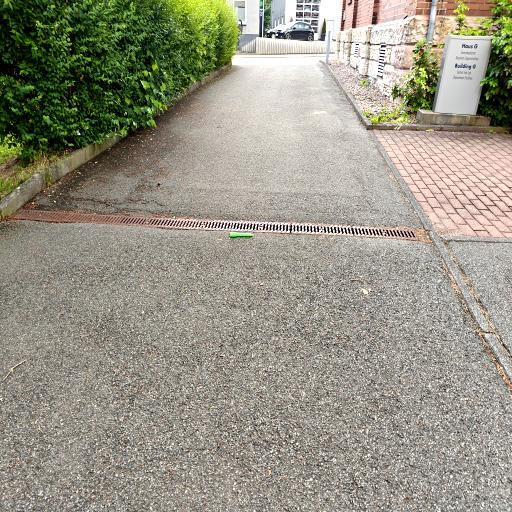Probe-Detection: (230, 232, 253, 237)
